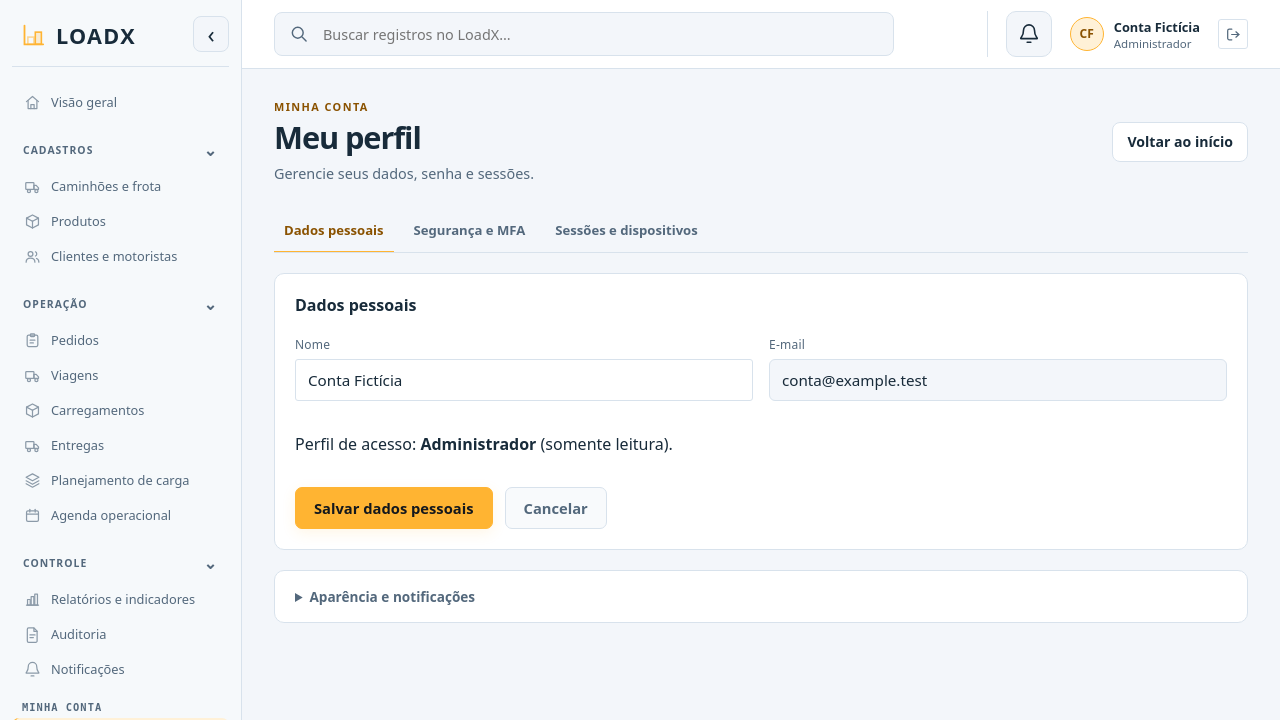
Scenario: OC92 Meu perfil › salva dados e atualiza o contexto da conta
Expected: the heading "Meu perfil" is shown, [274,116,421,158]
Replace the text in the field labelled "Nome" with "Nome Atualizado" at (524, 380), box [295,359,753,401]
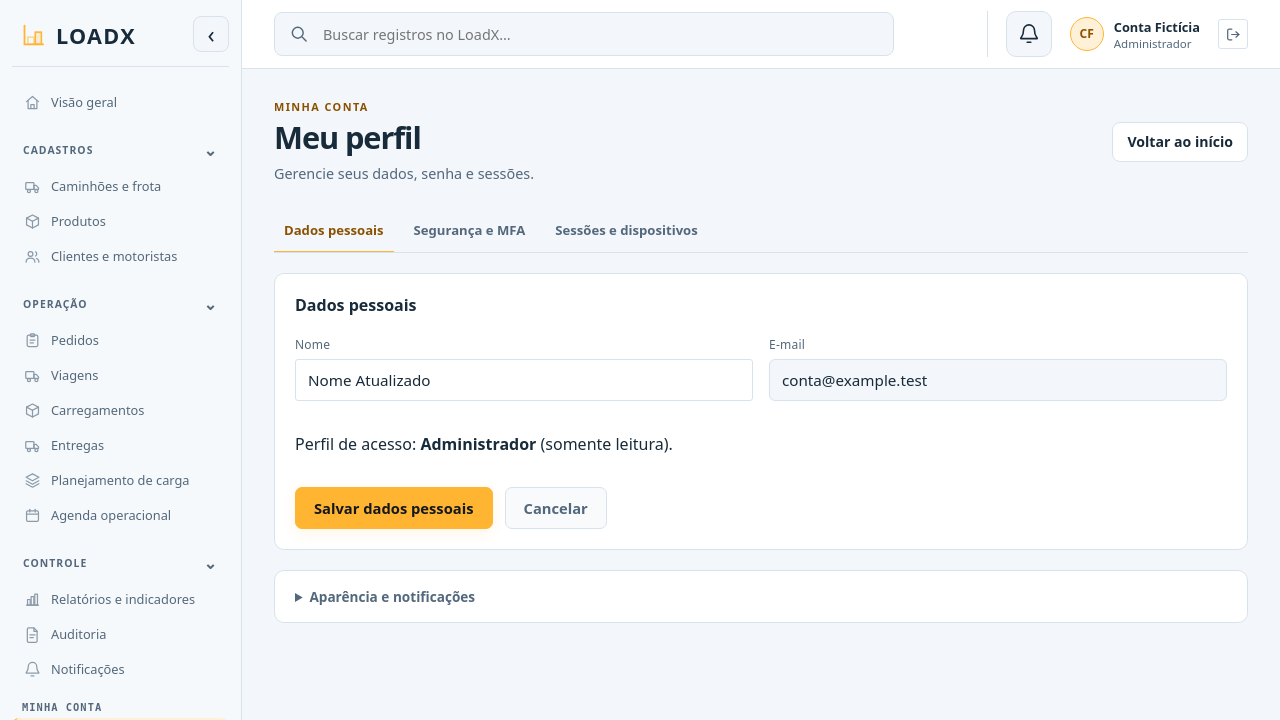
Click the button "Salvar dados pessoais" at (394, 508), box [295,487,492,529]
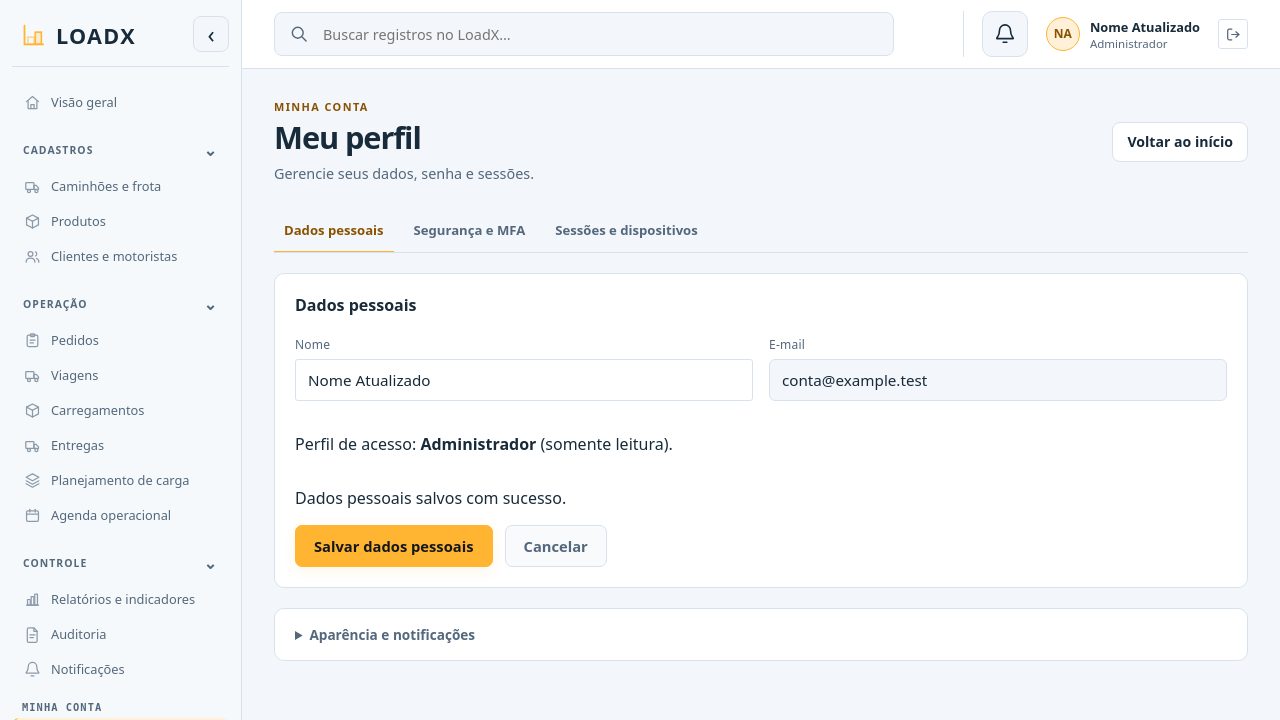
Expected: the text "Dados pessoais salvos com sucesso." is shown, [295,487,566,509]
Expected: the text "Nome Atualizado" is shown, [1090,18,1200,36]
